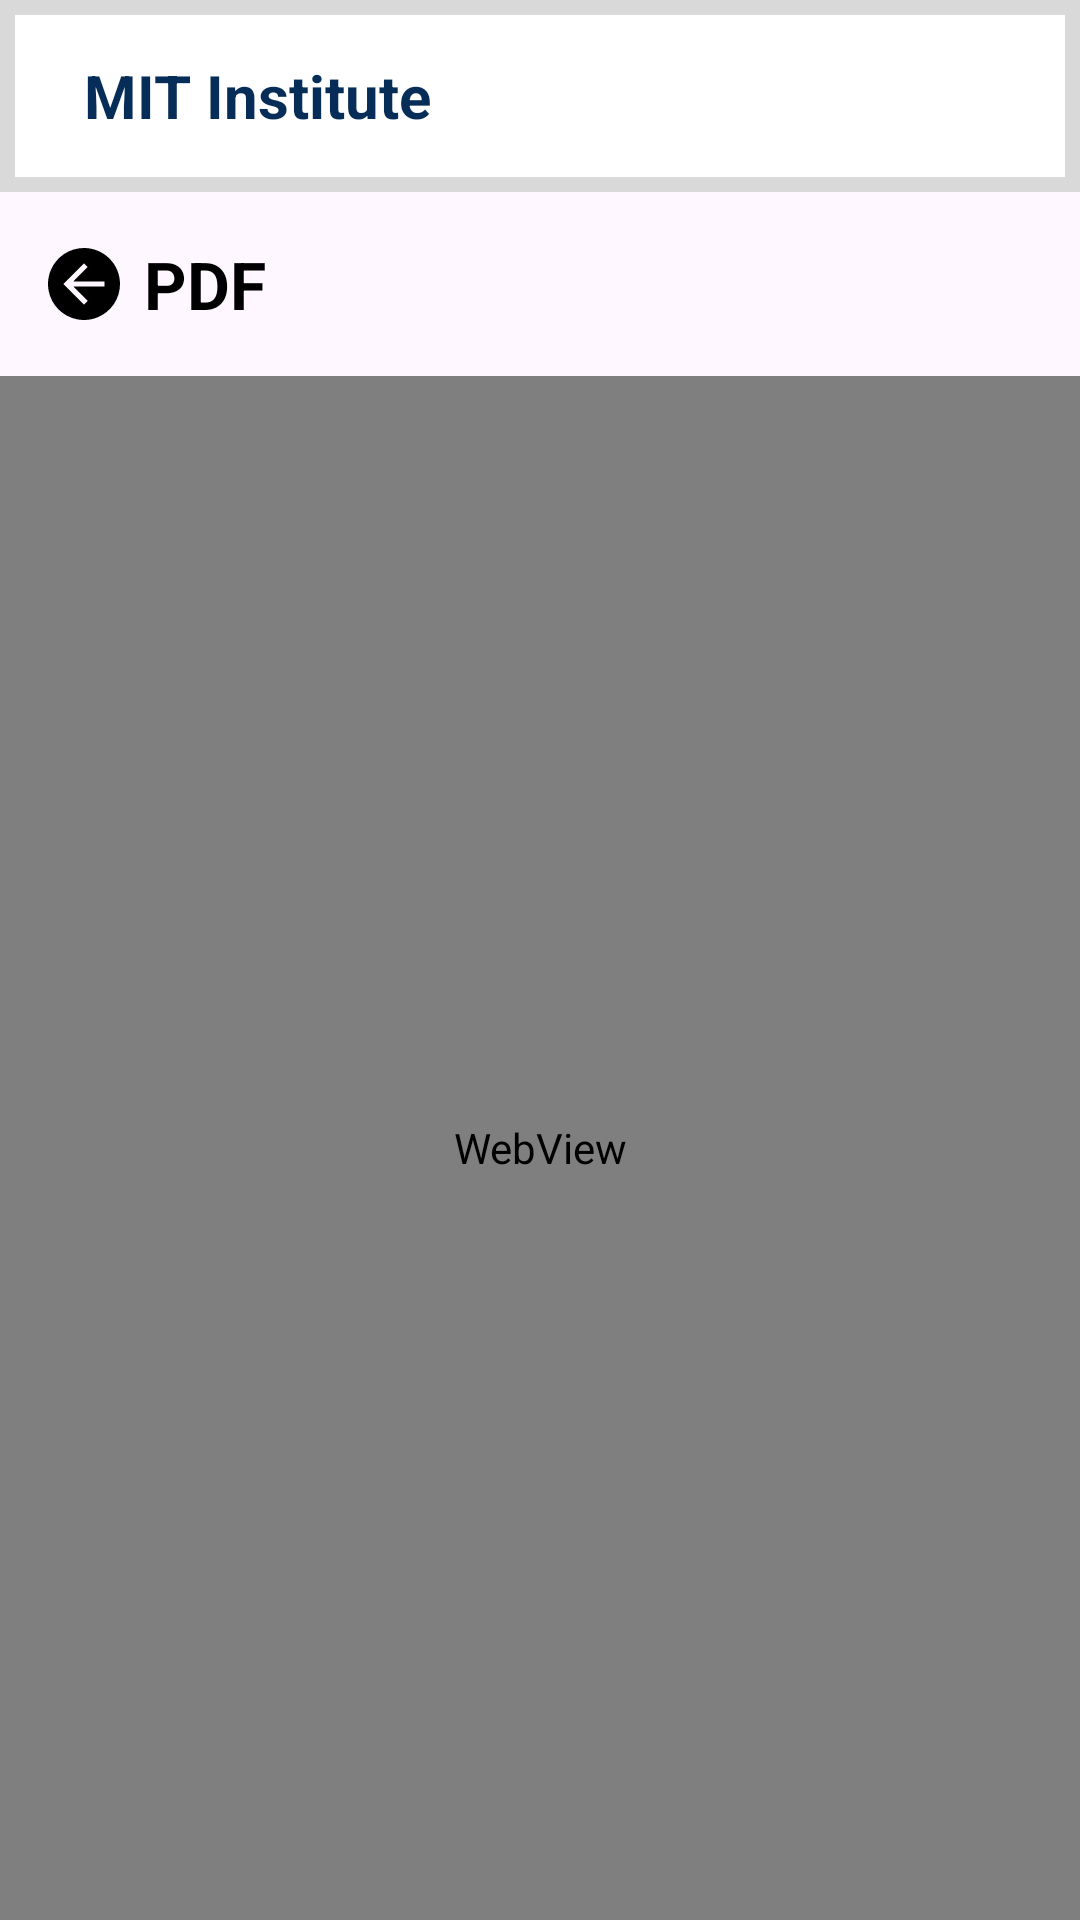

Screen size 1080×1920. Icon name, then its box in pixels as [x1=x1, y1=y1, x2=x2, y2=y2]:
Retour: [x1=48, y1=248, x2=120, y2=320]
